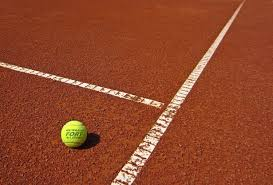tennis_ball: (60, 119, 88, 149)
